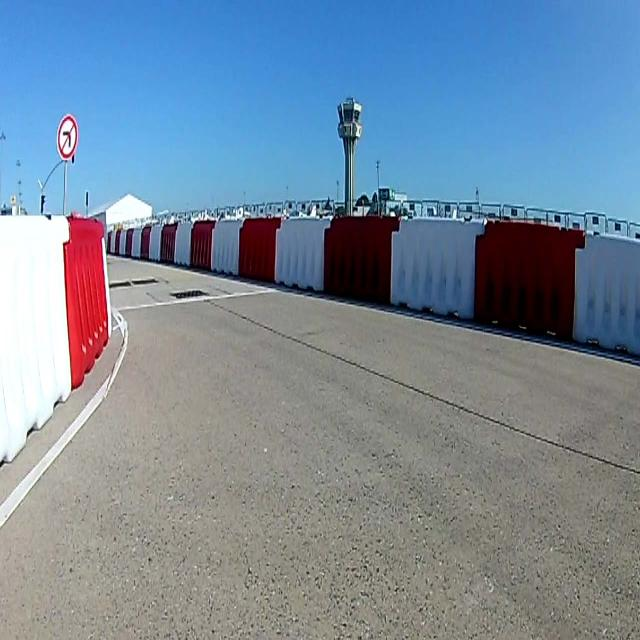soladonulmez: (57, 116, 77, 158)
